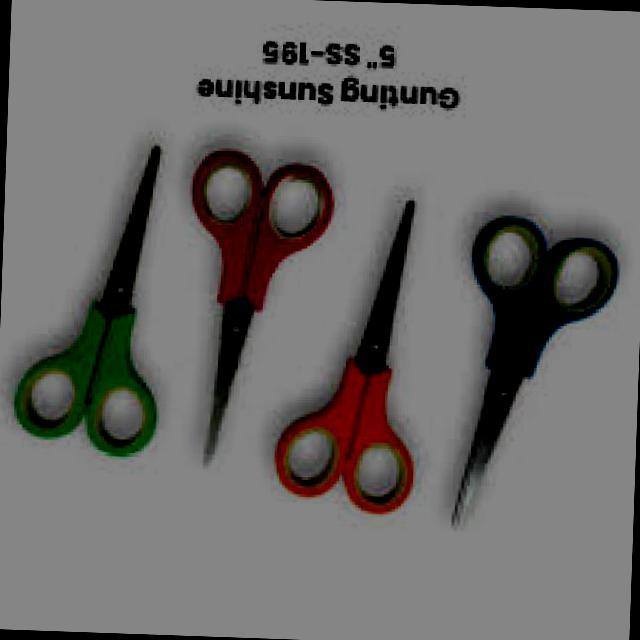Scissors: (428, 186, 627, 556), (268, 160, 444, 549), (169, 133, 346, 514), (12, 120, 180, 502)
